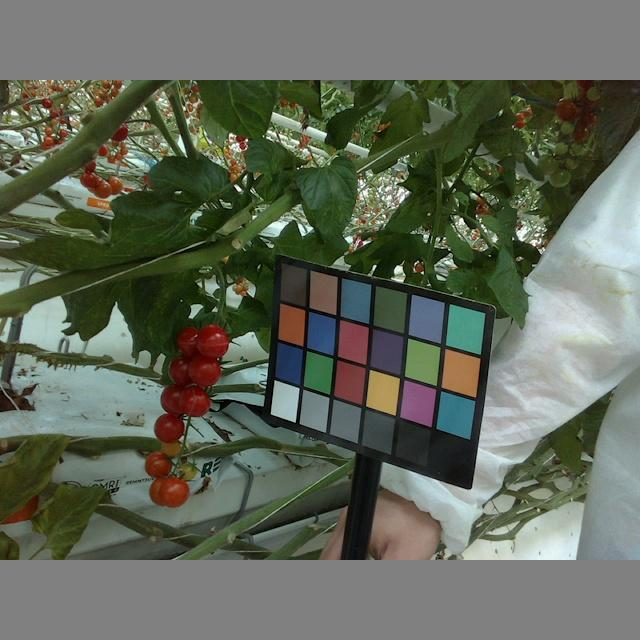pink: (157, 476, 191, 508), (144, 453, 174, 481)
red: (195, 323, 229, 359), (166, 355, 203, 385), (177, 384, 211, 416), (159, 385, 192, 416), (187, 357, 221, 385), (154, 412, 189, 439), (176, 326, 204, 355)
